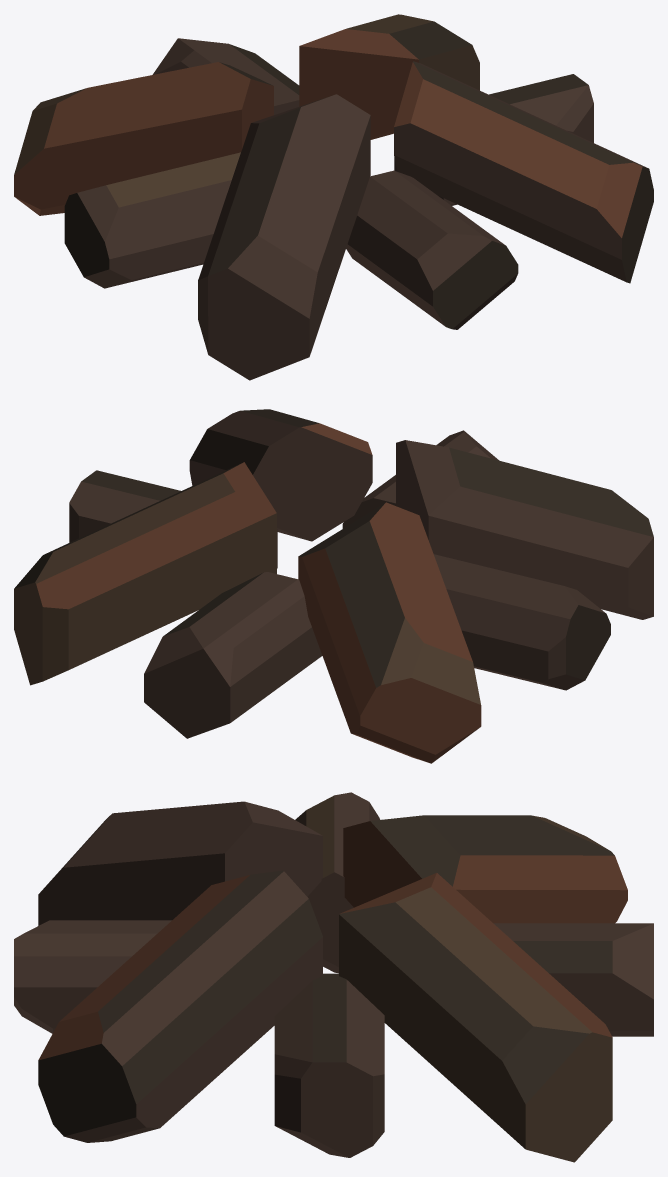
Rendered from Fire.fbx.
3 renders of one model, top to bottom at view 1: azimuth 30°, elevation 25°; view 2: azimuth 150°, elevation 25°; view 3: azimuth 270°, elevation 25°, orthographic. The views are drawn at different scales.
Parts seen in each view (by area): view 1: Cylinder.002; view 2: Cylinder.002; view 3: Cylinder.002.
Boxes of the visible parts, <box> form: Cylinder.002: <box>14,14,653,380</box>; Cylinder.002: <box>14,409,653,763</box>; Cylinder.002: <box>14,792,653,1162</box>.
Size of the model in its own units: 892 by 334 by 894.
